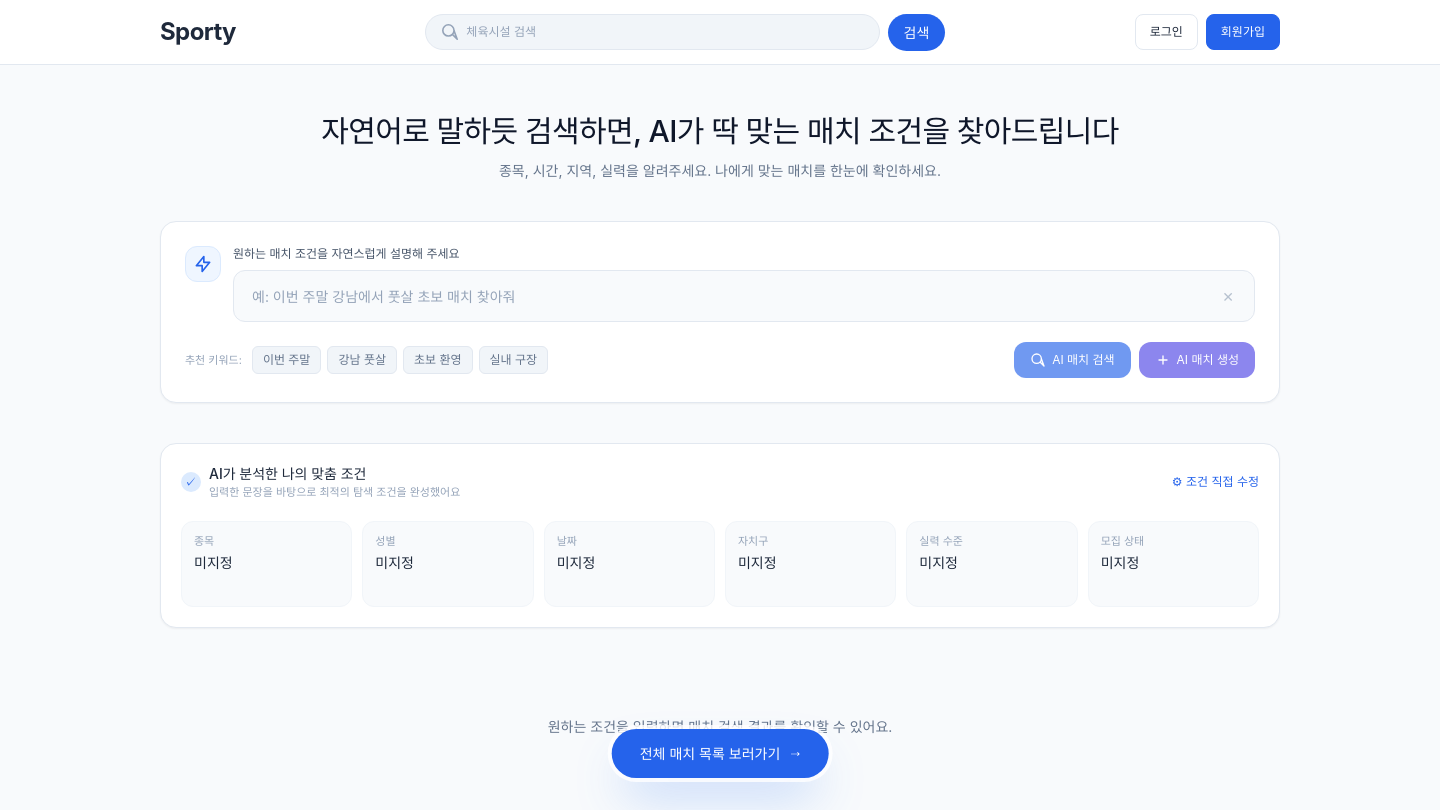
opens facility search with the entered query
This screenshot has width=1440, height=810.
In the search field: (664, 32) [466,23,862,41], type "강남 & 풋살"
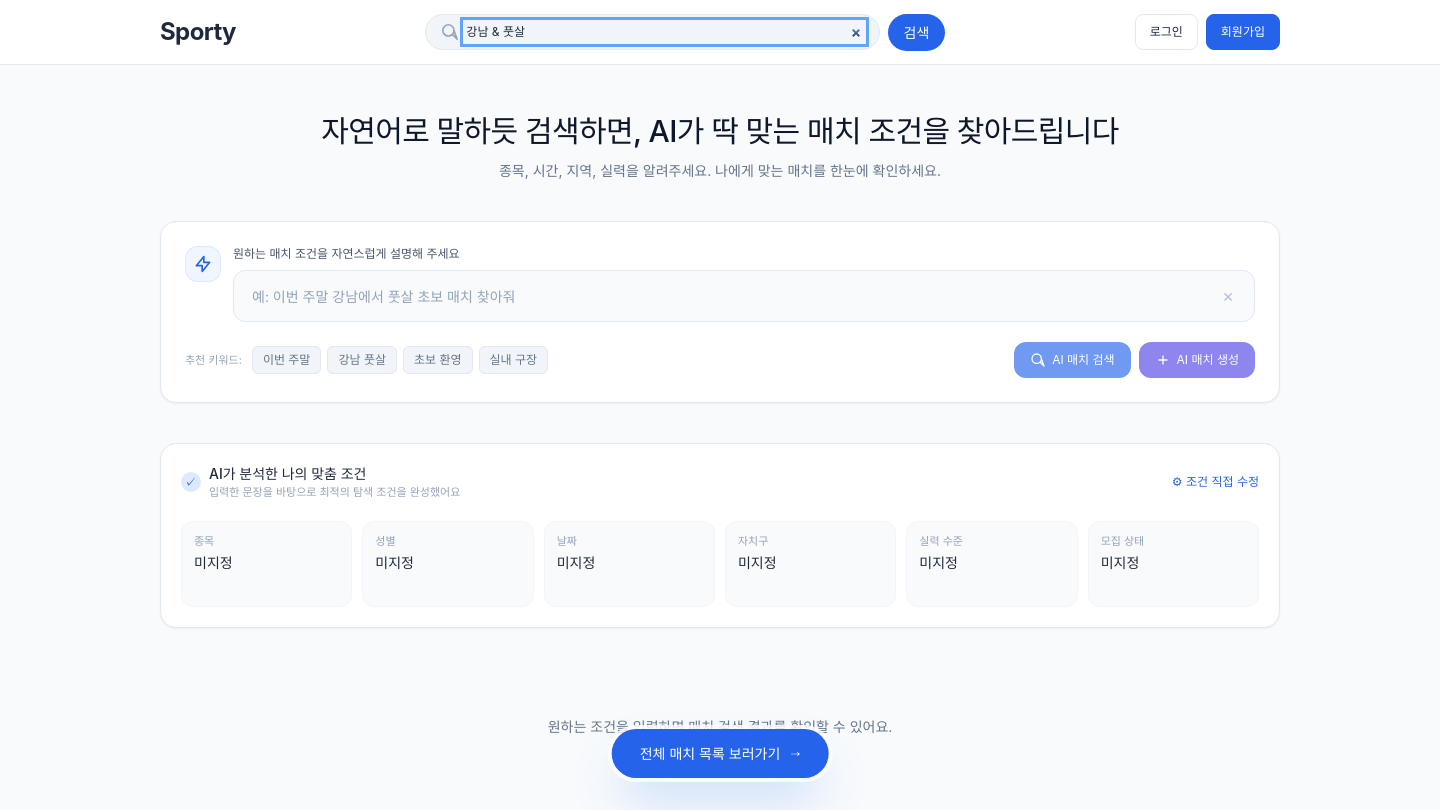
Click the button "검색": (916, 32) [888,14,945,50]
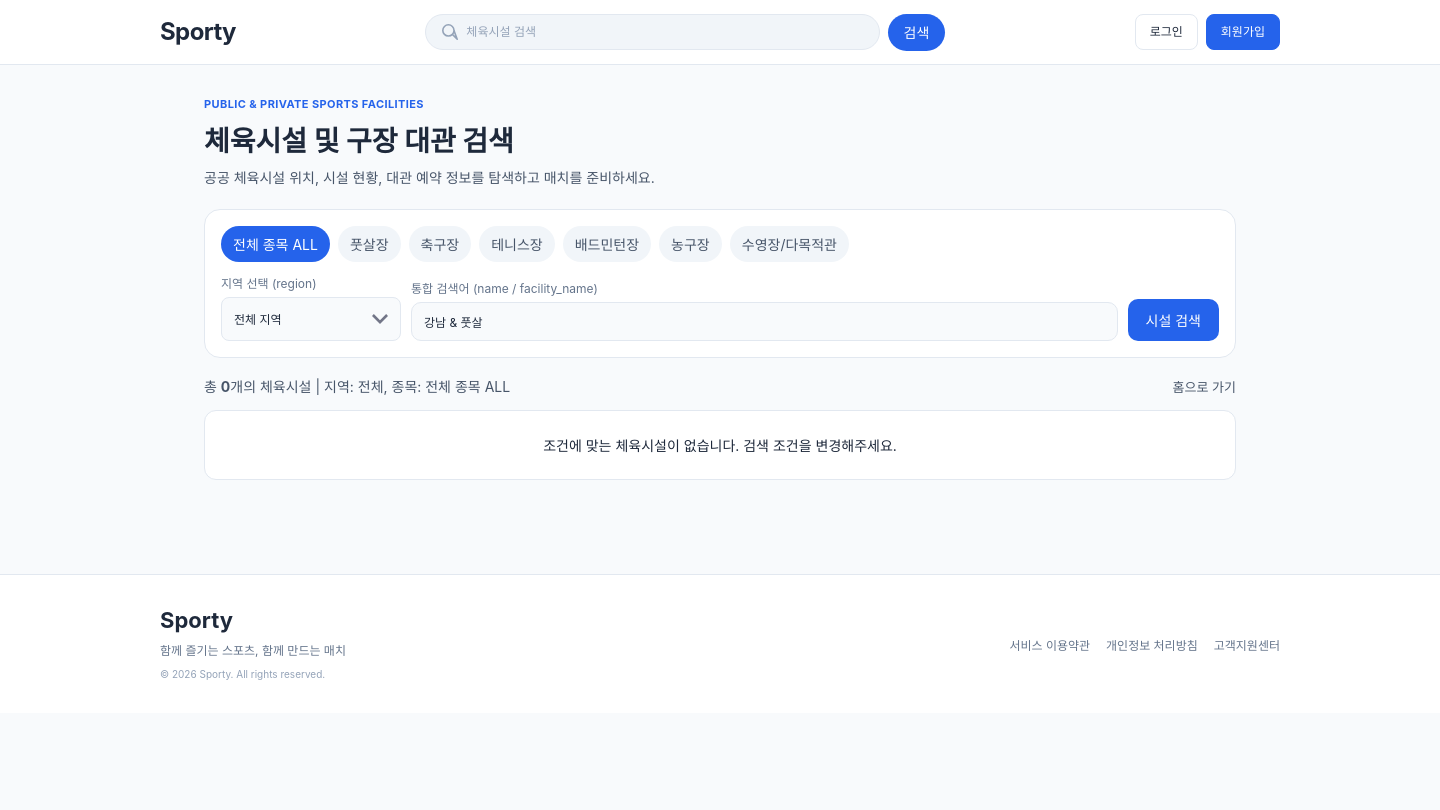
expect the button "시설 검색" is shown: met, box [1128,299,1219,341]
